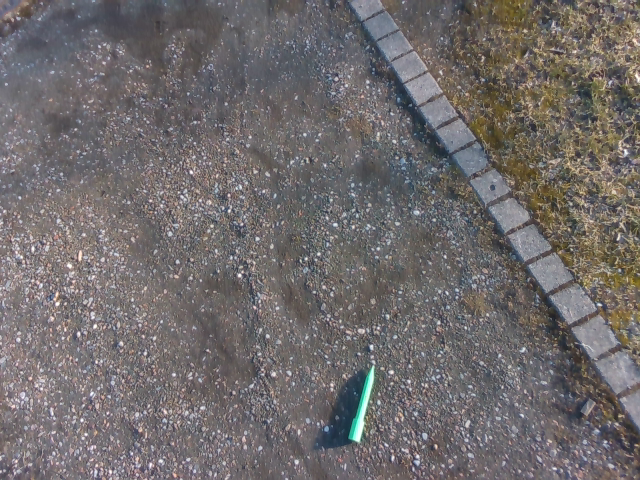Probe: (341, 363, 378, 449)
